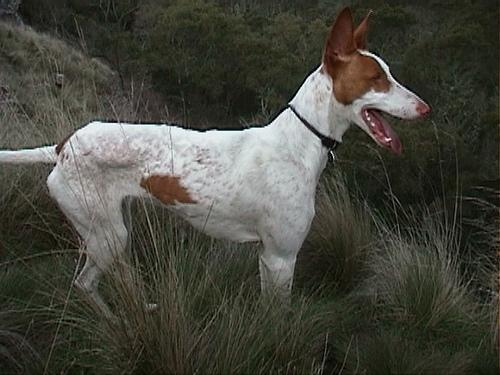Ibizan_hound: (0, 4, 429, 324)
